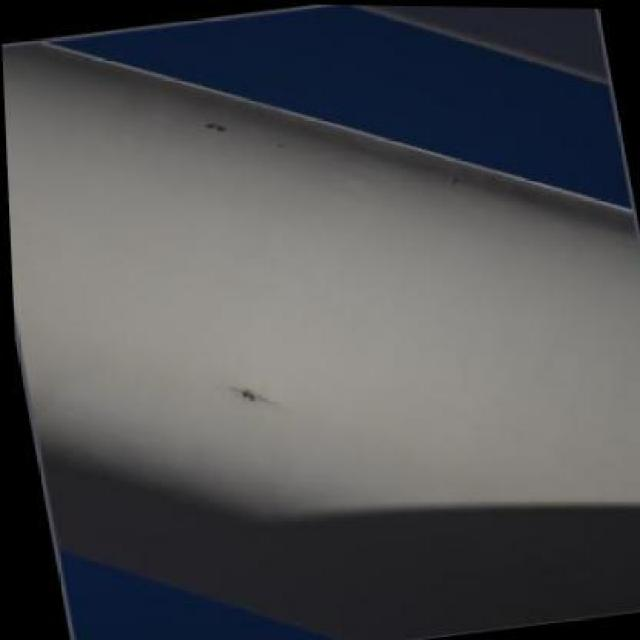Coating_defects: (196, 110, 236, 136)
Crack: (217, 377, 278, 417)
